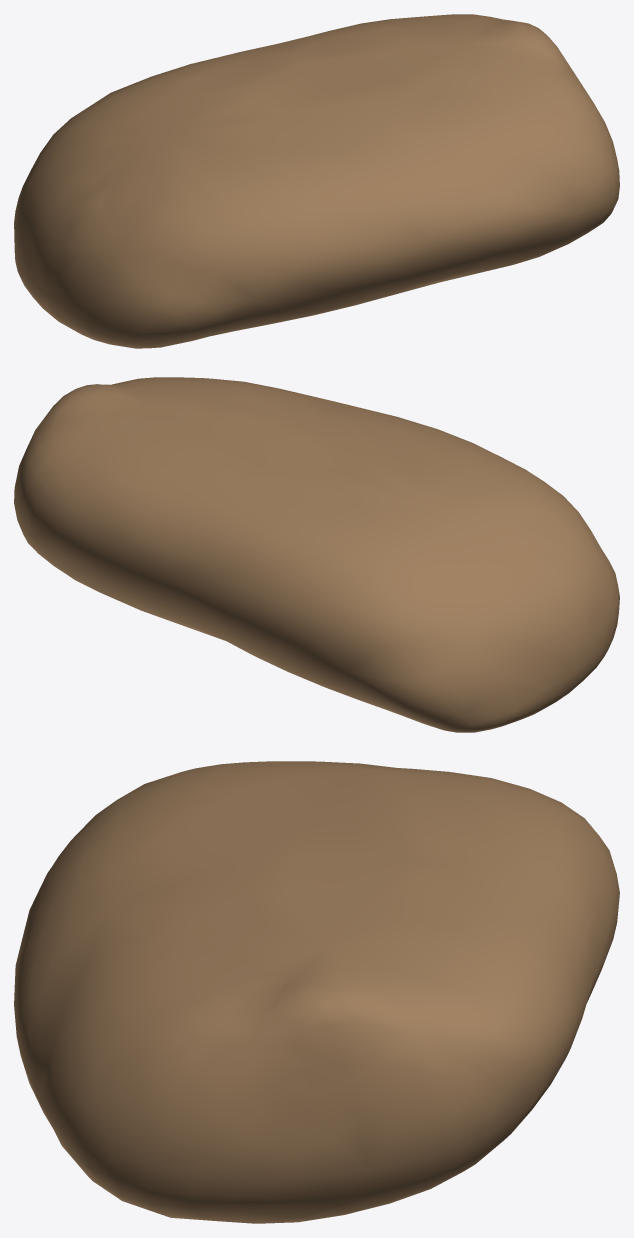
File: SandBagSingle_01a.fbx
3 renders of one model, top to bottom at view 1: azimuth 30°, elevation 25°; view 2: azimuth 150°, elevation 25°; view 3: azimuth 270°, elevation 25°, orthographic. The views are drawn at different scales.
Visible parts, largest first — view 1: SandBagSingle_01a; view 2: SandBagSingle_01a; view 3: SandBagSingle_01a.
Part boxes in pixels (x1,y1,x2,y2): SandBagSingle_01a: [14, 14, 619, 348]; SandBagSingle_01a: [14, 377, 619, 732]; SandBagSingle_01a: [14, 761, 619, 1223].
Bounding box in the file's own units: 60.16 × 21.08 × 41.54.
